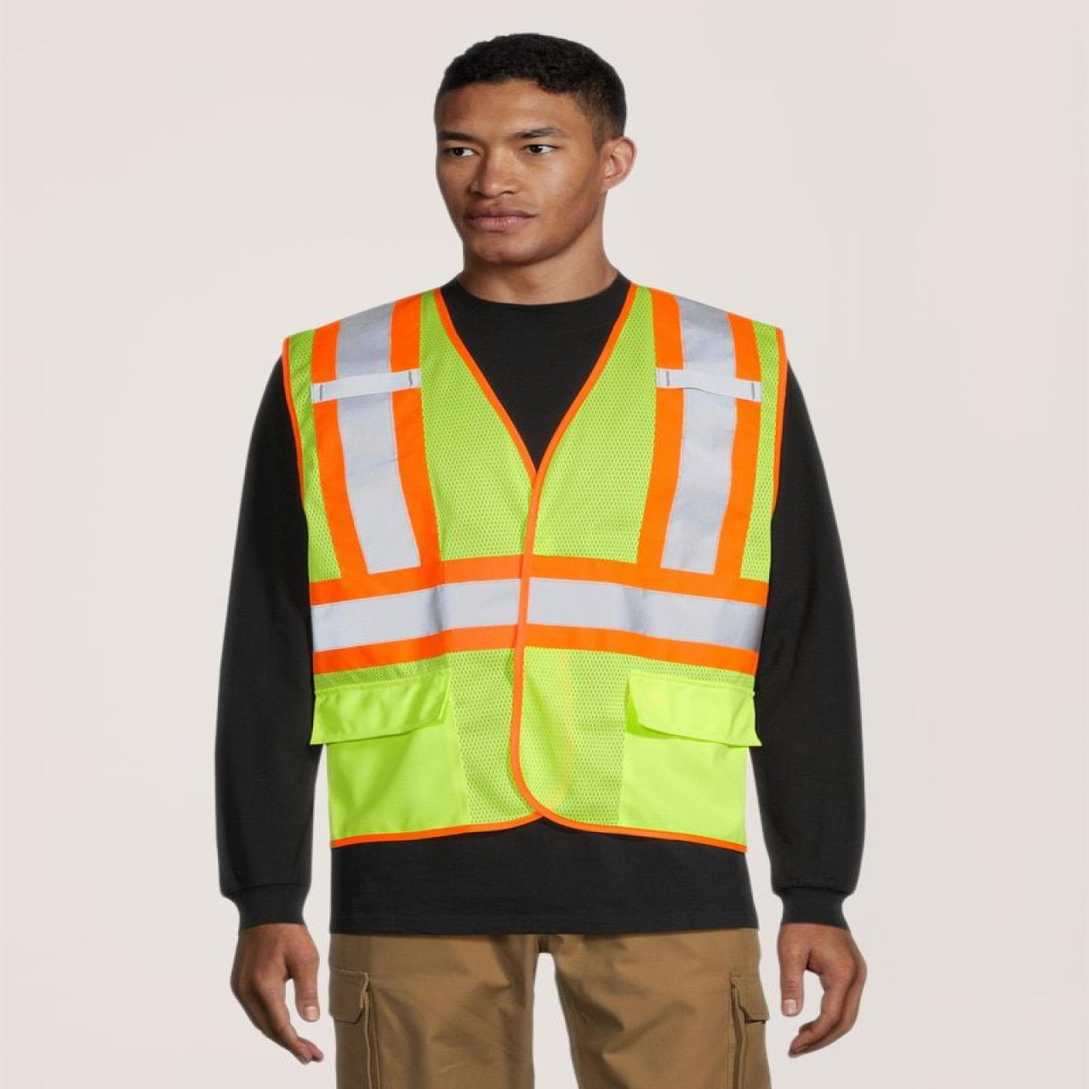Person: (162, 0, 969, 1089)
Safety_Vest: (270, 278, 795, 855)
